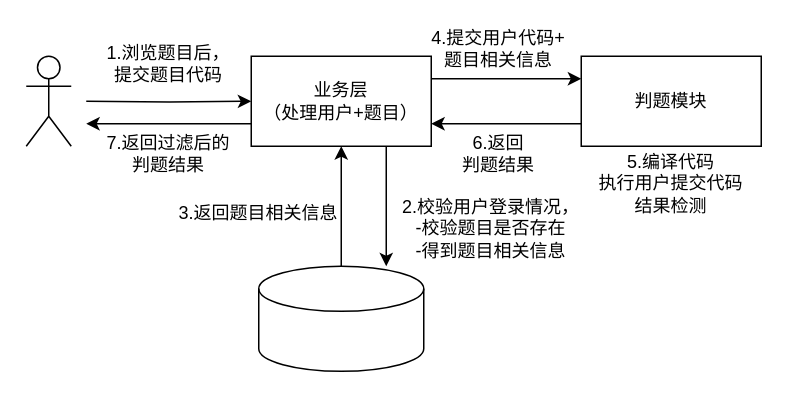
This 788x398 diagram has some shape labels left out. Here are the shapes that lost their labels. From the top down, the centre of each, then its label:
At point 48,100: "用户".
At point 340,318: "mysql数据库".
